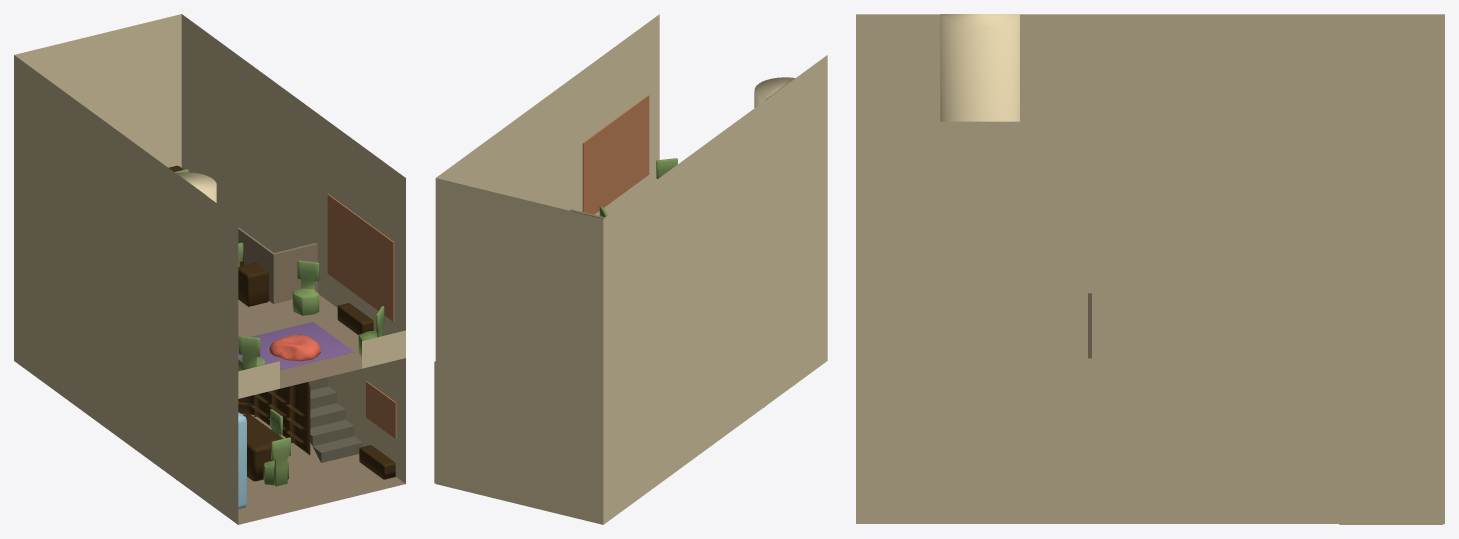
3 renders of one model, left to right at view 1: azimuth 30°, elevation 25°; view 2: azimuth 150°, elevation 25°; view 3: azimuth 270°, elevation 25°, orthographic. The views are drawn at different scales.
Parts seen in each view (by area): view 1: Plane.006, Plane.002, Cube.005, Plane.007, Plane, Piano.018, Plane.003, Cube.009, Piano.017, Cube.002, Icosphere, Cube.024 (+7 smaller); view 2: Plane.006, Plane.002, Cube.005, Cylinder.002; view 3: Plane.006, Plane.002, Plane.008, Cylinder.002.
Boxes of the visible parts, box(x1,y1,x2,y2) form: Plane.006: box(14, 14, 405, 398); Plane.002: box(14, 140, 405, 524); Cube.005: box(327, 194, 394, 321); Plane.007: box(309, 377, 362, 462); Plane: box(238, 322, 353, 370); Piano.018: box(243, 414, 282, 481); Plane.003: box(286, 382, 310, 454); Cube.009: box(292, 260, 319, 315); Piano.017: box(238, 262, 268, 306); Cube.002: box(366, 381, 396, 438); Icosphere: box(269, 334, 320, 361); Cube.024: box(263, 437, 290, 486); Plane.006: box(435, 14, 827, 398); Plane.002: box(435, 141, 827, 524); Cube.005: box(582, 95, 649, 214); Cylinder.002: box(754, 77, 795, 407); Plane.006: box(856, 14, 1444, 358); Plane.002: box(856, 287, 1444, 523); Plane.008: box(1339, 365, 1443, 524); Cylinder.002: box(940, 14, 1019, 121).
Size of the model in its own units: 7.88 by 13.66 by 18.05.
